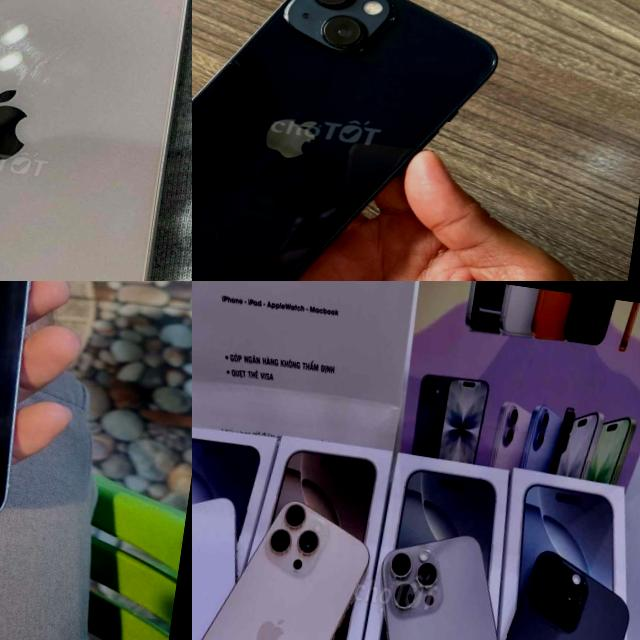scratch: (0, 0, 124, 200)
